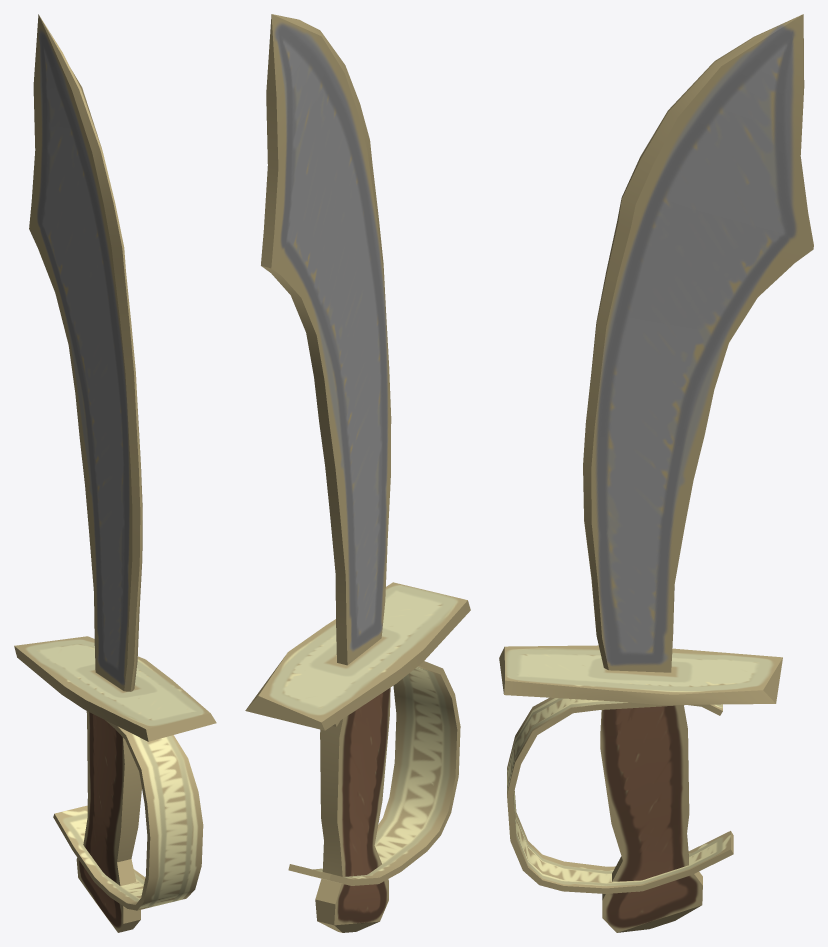
Rendered from 1cutlass.glb.
The picture shows the model from 3 angles, left to right: view 1: azimuth 30°, elevation 25°; view 2: azimuth 150°, elevation 25°; view 3: azimuth 270°, elevation 25°; orthographic projection. The views are drawn at different scales.
Visible parts, largest first — view 1: Cube; view 2: Cube; view 3: Cube.
Part boxes in pixels (x1,y1,x2,y2): Cube: [14, 14, 216, 932]; Cube: [245, 14, 470, 932]; Cube: [499, 14, 813, 932].
Size of the model in its own units: 0.3591 by 3.28 by 1.02.
1 material, 1 textured.
